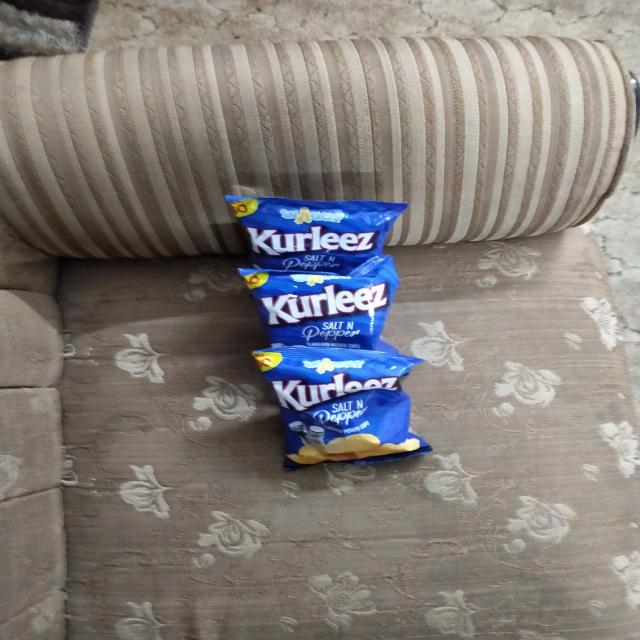Plastic: (242, 348, 434, 477), (222, 190, 403, 270), (225, 268, 402, 348)
